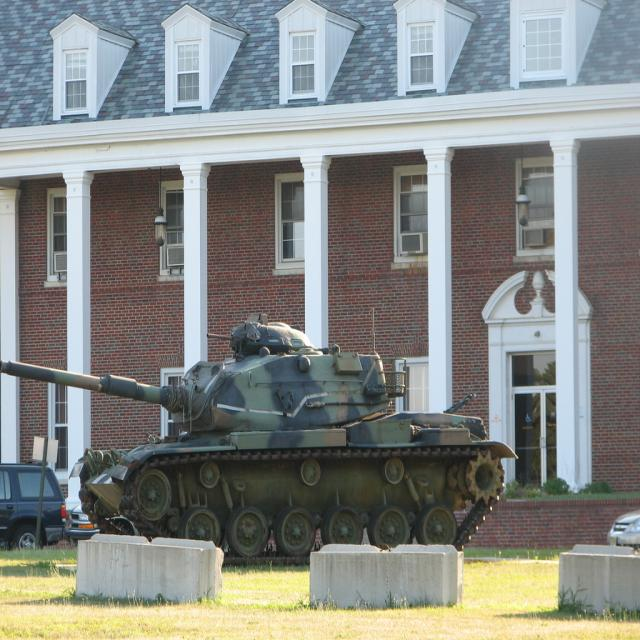tank: (0, 307, 519, 566)
